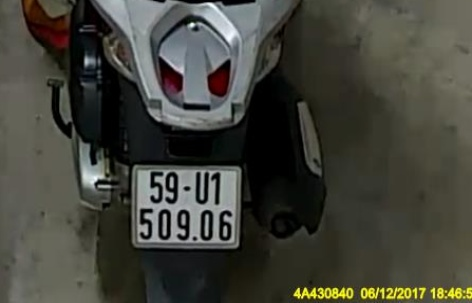plate: (129, 160, 242, 251)
